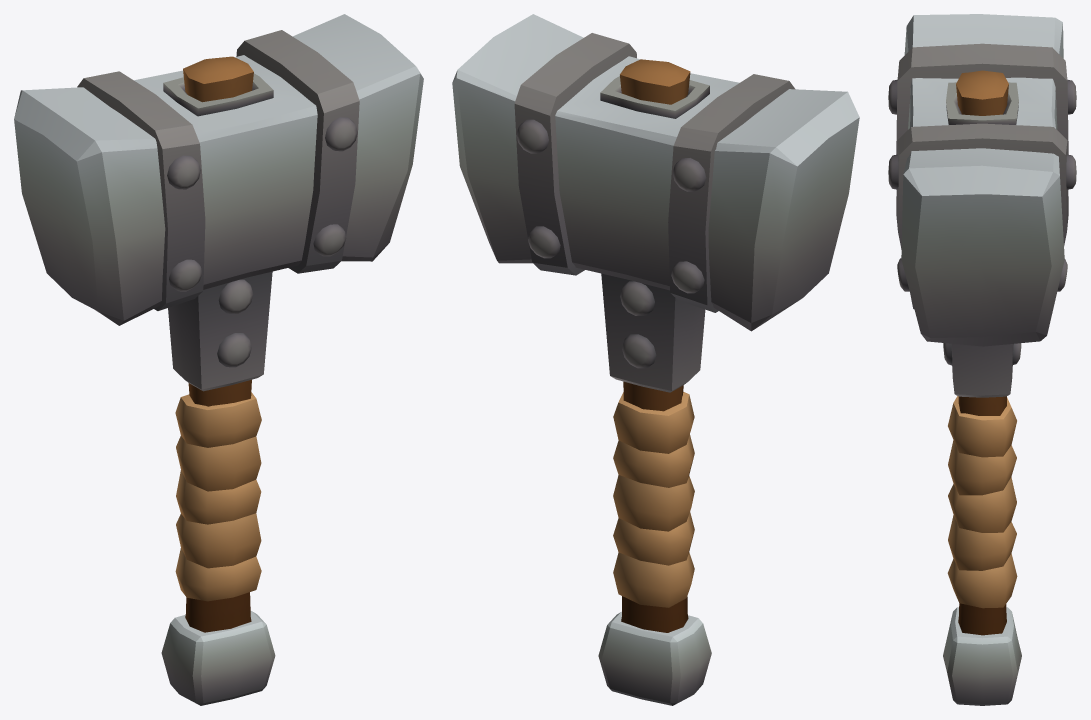
Rendered from Hammer_07.glb.
The picture shows the model from 3 angles, left to right: view 1: azimuth 30°, elevation 25°; view 2: azimuth 150°, elevation 25°; view 3: azimuth 270°, elevation 25°; orthographic projection. The views are drawn at different scales.
Visible parts, largest first — view 1: Hammer_07; view 2: Hammer_07; view 3: Hammer_07.
Boxes of the visible parts, x1,y1,x2,y2 form: Hammer_07: (14,14,423,705); Hammer_07: (452,14,859,705); Hammer_07: (888,14,1076,705).
Size of the model in its own units: 0.6369 by 1.08 by 0.301.
1 material, 1 textured.
